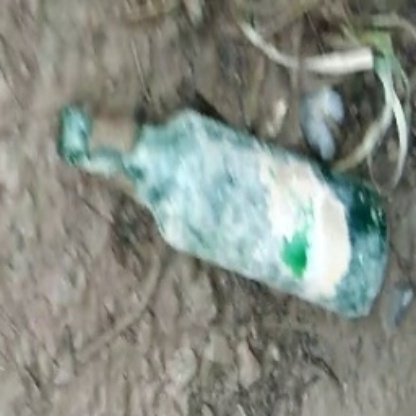bottle: (56, 98, 393, 322)
